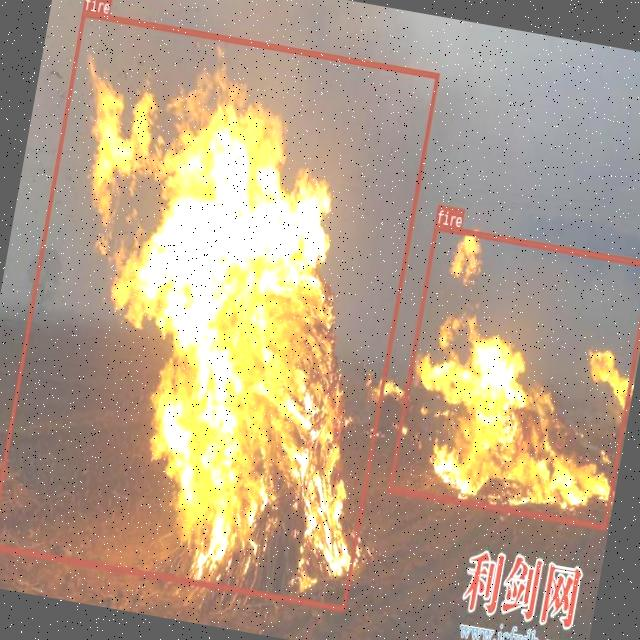fire: (0, 8, 438, 609), (387, 222, 640, 528)
